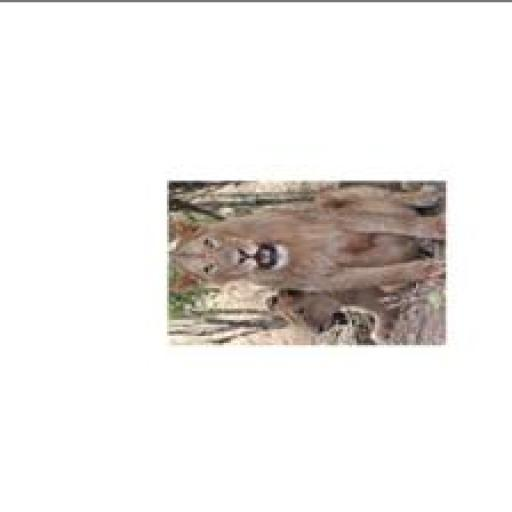lion: (151, 178, 487, 353)
